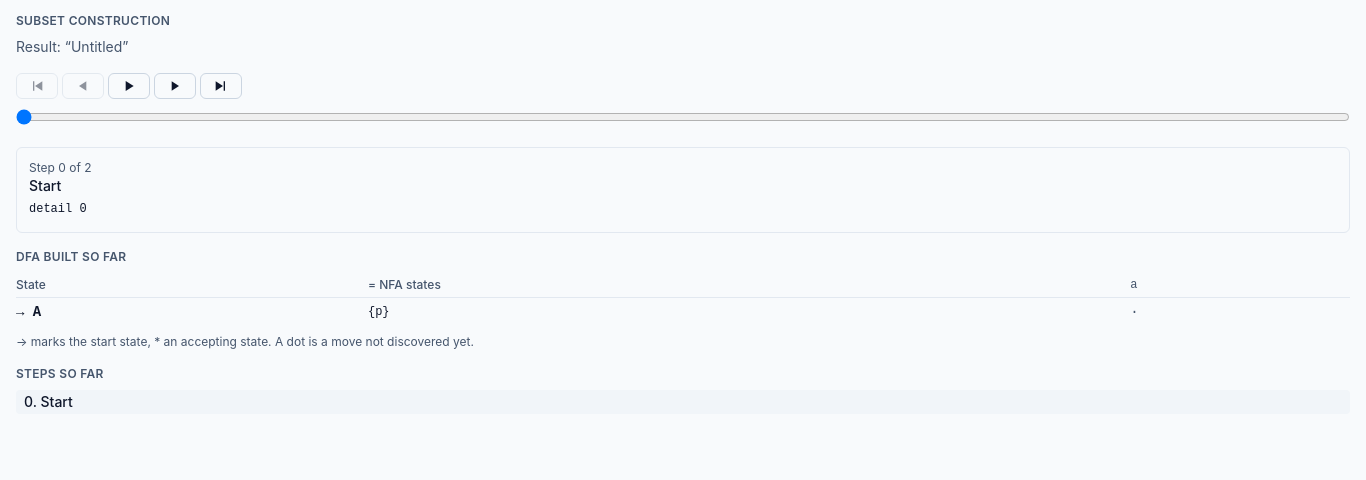
Test case: StepsPanel › shows the current step and moves with the buttons
Expected: the element with test id "step-card" shows "Step 0 of 2", [16,147,1350,232]
Expected: the element with test id "step-card" shows "Start", [29,177,61,194]
Click the button named "Next step".
click(175, 86)  # box [154,73,196,99]
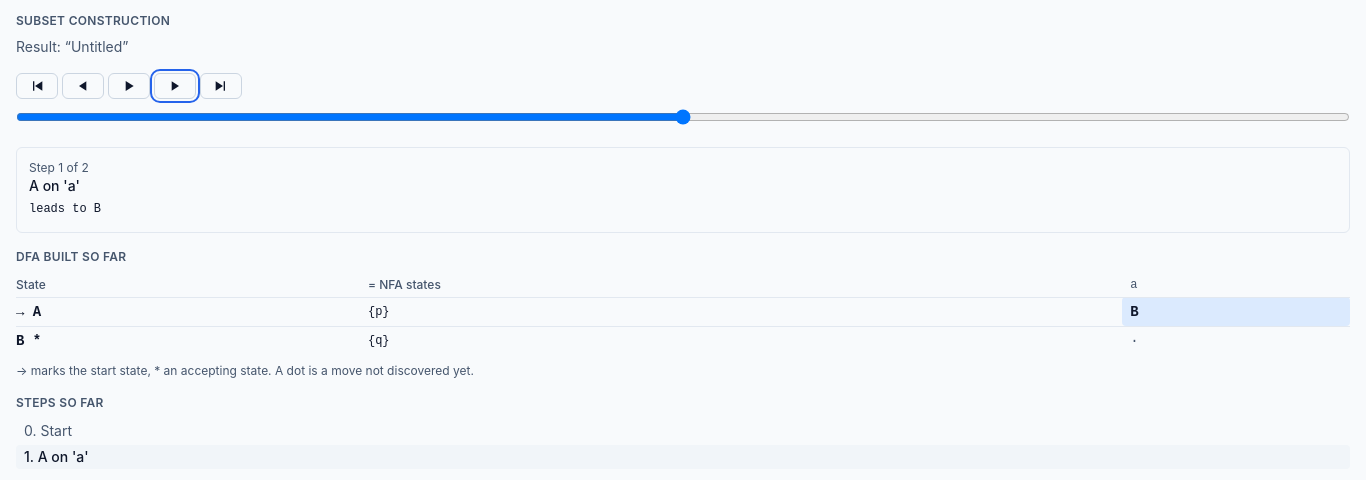
Result: the element with test id "step-card" shows "Step 1 of 2" at [16,147,1350,232]
Result: the element with test id "step-card" shows "A on 'a'" at [29,177,80,194]
Result: the element with test id "step-card" shows "leads to B" at [29,202,101,216]
Click the button named "Previous step".
click(83, 86)  # box [62,73,104,99]
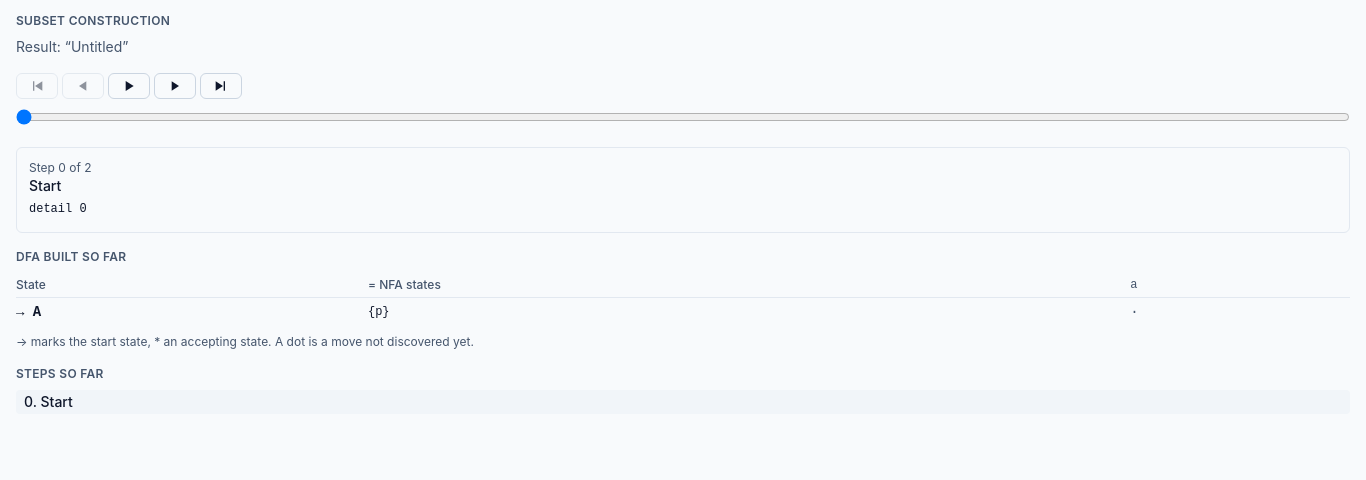
Result: the element with test id "step-card" shows "Step 0 of 2" at [16,147,1350,232]
